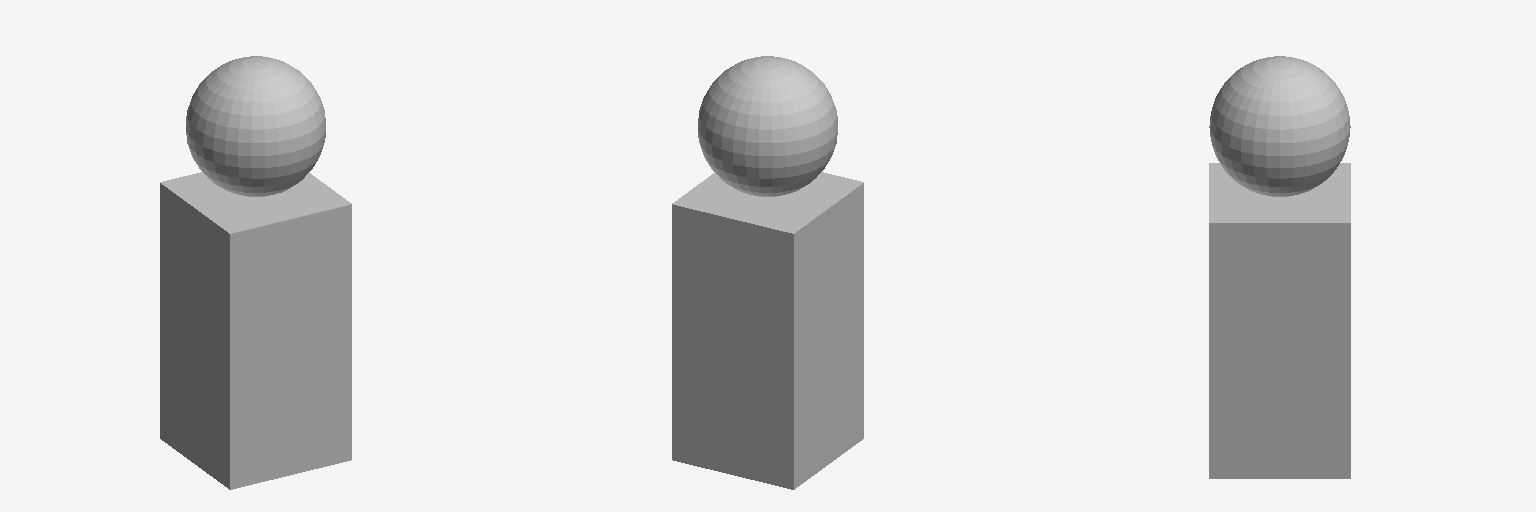
File: Player.obj
The picture shows the model from 3 angles: view 1: azimuth 30°, elevation 25°; view 2: azimuth 150°, elevation 25°; view 3: azimuth 270°, elevation 25°; orthographic projection.
Parts seen in each view (by area): view 1: Cube; view 2: Cube; view 3: Cube.
Boxes of the visible parts, x1,y1,x2,y2 form: Cube: [160, 56, 351, 489]; Cube: [672, 56, 863, 489]; Cube: [1209, 56, 1350, 478].
Size of the model in its own units: 0.5 by 1.51 by 0.5.